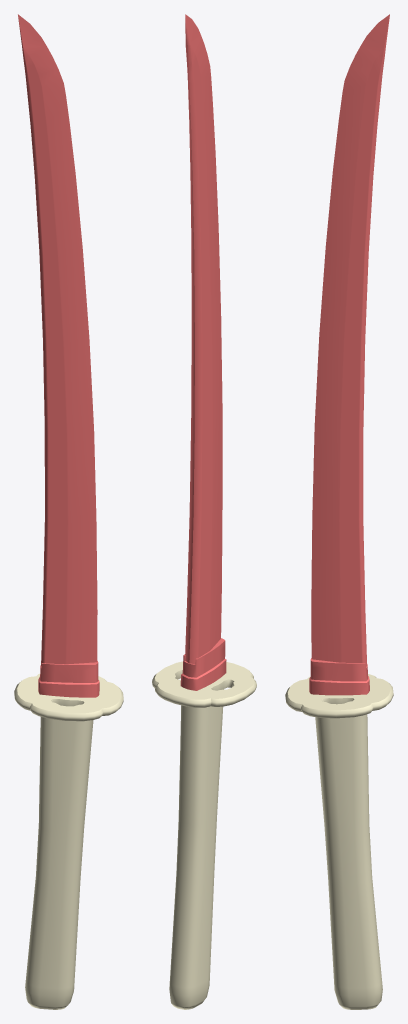
File: Sword.fbx
3 views of the same model, side by side, from view 1: azimuth 90°, elevation 25°; view 2: azimuth 150°, elevation 25°; view 3: azimuth 270°, elevation 25° (orthographic).
Parts seen in each view (by area): view 1: katana; view 2: katana; view 3: katana.
Boxes of the visible parts, x1,y1,x2,y2 form: katana: [14, 14, 123, 1009]; katana: [152, 14, 256, 1009]; katana: [285, 14, 393, 1009].
Bounding box in the file's own units: 10.88 × 11.9 × 120.
